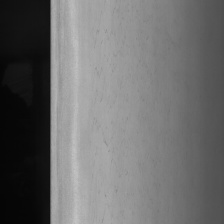silk_spot: (90, 18, 148, 203)
